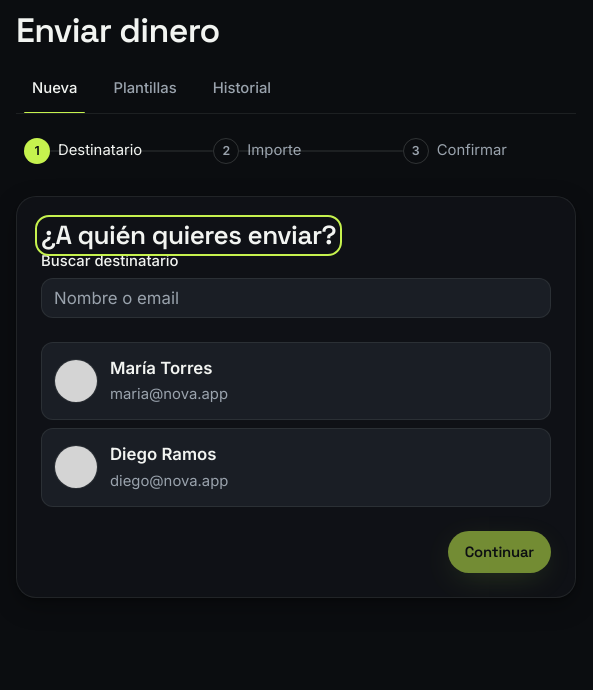
Test: TransfersPage › completa una transferencia y muestra la pantalla de éxito
Paso 1 — destinatario.
Click the button "María Torres maria@nova.app".
click(76, 381)  # box [41,342,551,420]
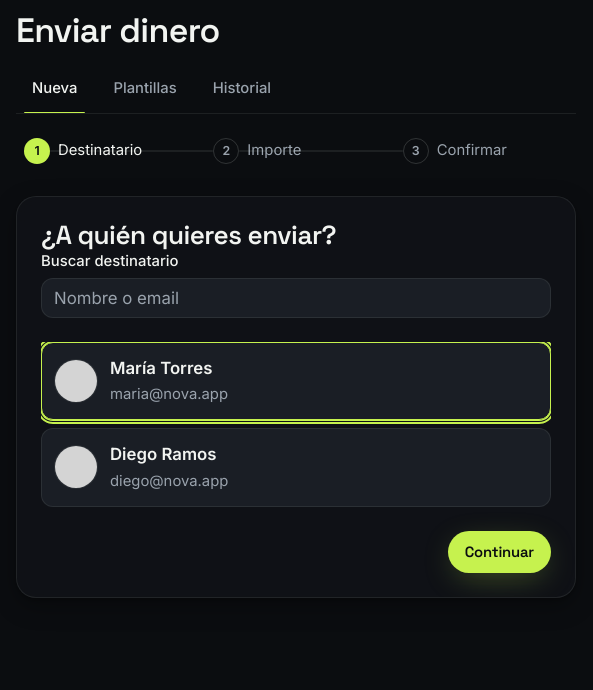
Click the button "Continuar".
click(499, 552)  # box [448,531,551,573]
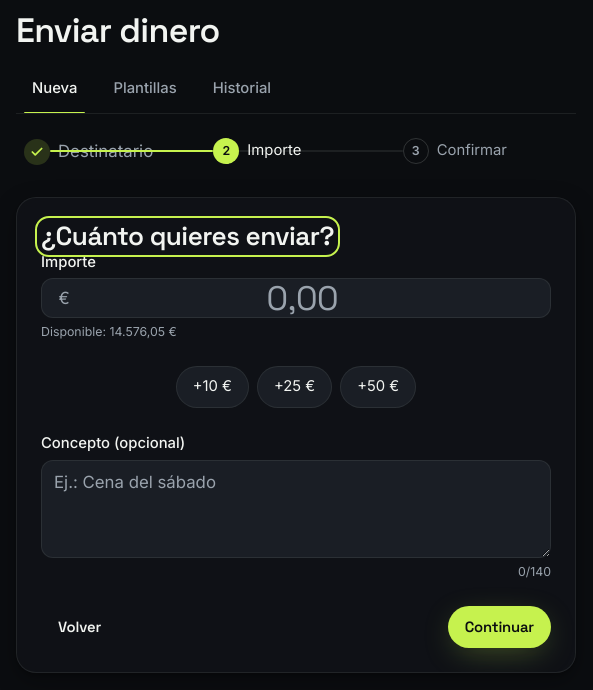
Paso 2 — importe.
Type "10" into the number field labelled "Importe".
click(310, 298); type("10")  # box [82,279,538,317]
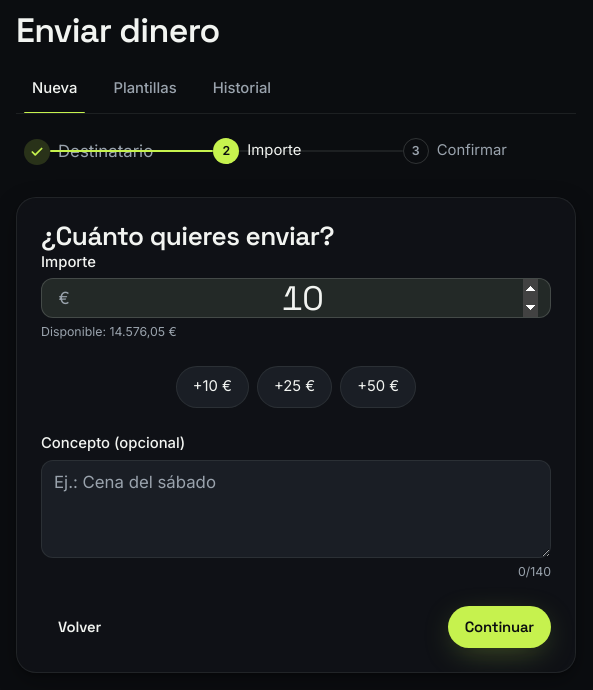
Click the button "Continuar".
click(499, 627)  # box [448,606,551,648]
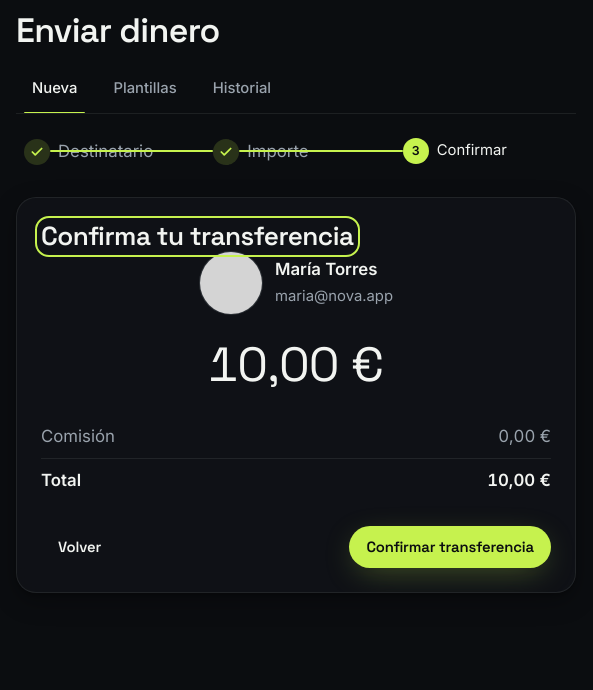
Paso 3 — confirmación (el endpoint tarda ~800ms).
Click the button "Confirmar transferencia".
click(450, 547)  # box [349,526,551,568]
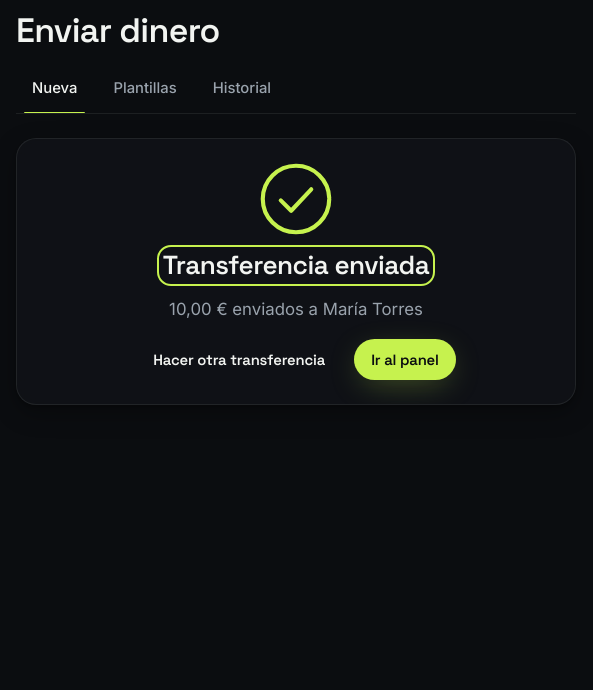
Check: the heading "Transferencia enviada" is shown, box [163,251,429,280]
